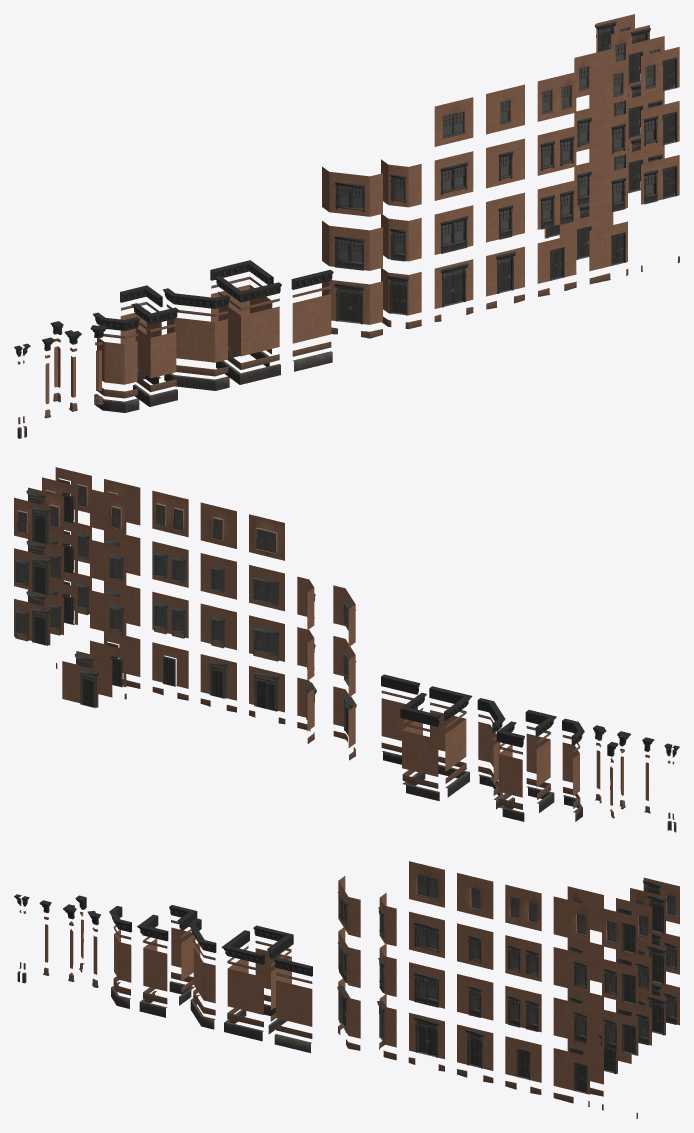
The model's file is modular_urban_apartments_facade.glb.
3 views of the same model, one above another, from view 1: azimuth 30°, elevation 25°; view 2: azimuth 150°, elevation 25°; view 3: azimuth 330°, elevation 25° (orthographic). The views are drawn at different scales.
Parts seen in each view (by area): view 1: wall_standard_corner_large_01, wall_standard_angled_large_01, wall_window_angled_large_02, wall_standard_corner_small_01, wall_standard_standard_01, wall_window_angled_large_01, wall_standard_angled_small_01, wall_window_offset_small_05, wall_window_centered_small_03, wall_window_angled_small_02, wall_window_centered_small_02, wall_window_centered_double_03 (+39 smaller); view 2: wall_standard_corner_large_02, wall_standard_corner_large_01, wall_window_offset_small_06, wall_window_centered_small_03, wall_window_offset_small_04, wall_window_centered_small_02, wall_window_centered_small_01, wall_window_offset_small_02, wall_window_centered_double_03, wall_door_centered_small_02, door_window_small_04, wall_standard_corner_small_01 (+39 smaller); view 3: wall_standard_corner_large_01, wall_standard_standard_01, wall_window_offset_small_05, wall_window_centered_small_03, wall_window_centered_small_02, wall_window_offset_small_03, wall_window_centered_double_03, wall_window_centered_small_01, wall_window_offset_small_01, wall_door_centered_small_02, wall_door_offset_small_01, wall_standard_corner_small_01 (+58 smaller).
Part boxes in pixels (left/top/right/bottom): wall_standard_corner_large_01: left=218, top=306, right=279, bottom=356; wall_standard_angled_large_01: left=167, top=318, right=227, bottom=362; wall_window_angled_large_02: left=322, top=166, right=382, bottom=216; wall_standard_corner_small_01: left=135, top=328, right=176, bottom=378; wall_standard_standard_01: left=292, top=294, right=331, bottom=343; wall_window_angled_large_01: left=322, top=220, right=382, bottom=270; wall_standard_angled_small_01: left=97, top=338, right=137, bottom=384; wall_window_offset_small_05: left=589, top=59, right=627, bottom=109; wall_window_centered_small_03: left=486, top=84, right=524, bottom=134; wall_window_angled_small_02: left=381, top=159, right=421, bottom=207; wall_window_centered_small_02: left=486, top=138, right=524, bottom=188; wall_window_centered_double_03: left=537, top=72, right=576, bottom=121; wall_standard_corner_large_02: left=402, top=721, right=438, bottom=776; wall_standard_corner_large_01: left=430, top=710, right=466, bottom=771; wall_window_offset_small_06: left=90, top=489, right=126, bottom=535; wall_window_centered_small_03: left=200, top=502, right=236, bottom=548; wall_window_offset_small_04: left=90, top=539, right=126, bottom=585; wall_window_centered_small_02: left=200, top=553, right=236, bottom=599; wall_window_centered_small_01: left=200, top=603, right=236, bottom=649; wall_window_offset_small_02: left=90, top=590, right=126, bottom=636; wall_window_centered_double_03: left=152, top=490, right=188, bottom=537; wall_door_centered_small_02: left=152, top=642, right=188, bottom=688; door_window_small_04: left=15, top=605, right=51, bottom=645; wall_standard_corner_small_01: left=526, top=733, right=550, bottom=786; wall_standard_corner_large_01: left=227, top=959, right=263, bottom=1014; wall_standard_standard_01: left=276, top=980, right=312, bottom=1026; wall_window_offset_small_05: left=553, top=896, right=589, bottom=942; wall_window_centered_small_03: left=457, top=873, right=493, bottom=919; wall_window_centered_small_02: left=457, top=923, right=493, bottom=969; wall_window_offset_small_03: left=553, top=947, right=589, bottom=993; wall_window_centered_double_03: left=505, top=884, right=541, bottom=931; wall_window_centered_small_01: left=457, top=974, right=493, bottom=1020; wall_window_offset_small_01: left=553, top=997, right=589, bottom=1043; wall_door_centered_small_02: left=505, top=1036, right=541, bottom=1082; wall_door_offset_small_01: left=553, top=1048, right=589, bottom=1094; wall_standard_corner_small_01: left=143, top=938, right=167, bottom=991.
Size of the model in its own units: 51.53 by 17 by 6.67.
5 materials, 5 textured.
